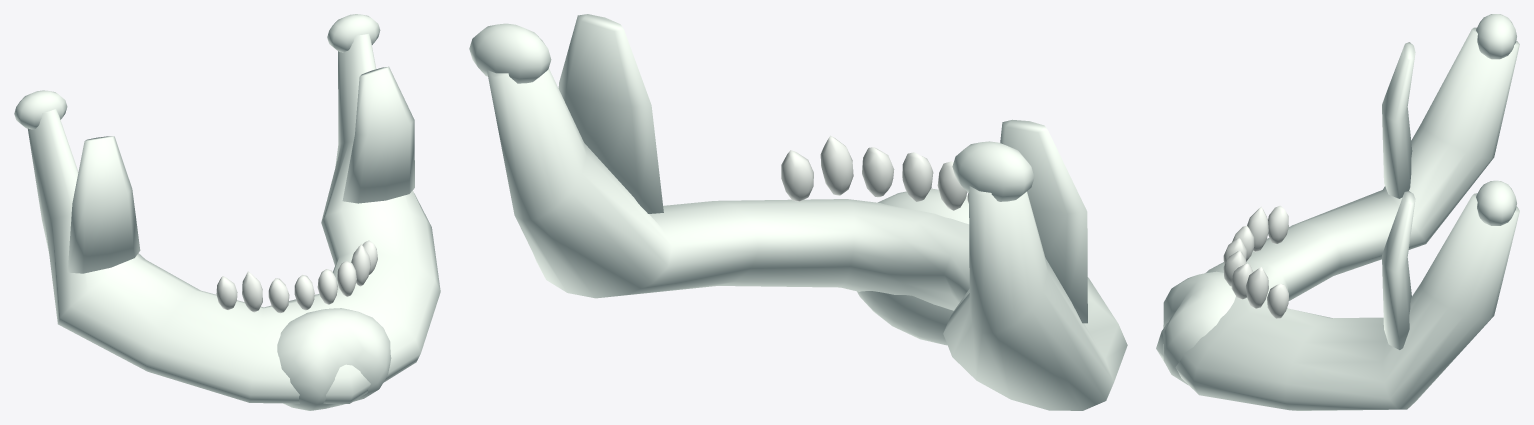
File: ghost_jaw.glb
3 views of the same model, side by side, from view 1: azimuth 30°, elevation 25°; view 2: azimuth 150°, elevation 25°; view 3: azimuth 270°, elevation 25° (orthographic). The views are drawn at different scales.
Visible parts, largest first — view 1: MandibleBody, ChinBoss, MandibleCoronoid_L, MandibleCoronoid_R, MandibleCondyle_L, MandibleCondyle_R, MandibleTooth_1, MandibleTooth_2, MandibleTooth_3, MandibleTooth_4, MandibleTooth_0, MandibleTooth_5 (+1 smaller); view 2: MandibleBody, MandibleCoronoid_R, MandibleCoronoid_L, ChinBoss, MandibleCondyle_L, MandibleCondyle_R, MandibleTooth_6, MandibleTooth_7, MandibleTooth_5, MandibleTooth_4, MandibleTooth_3; view 3: MandibleBody, ChinBoss, MandibleCoronoid_L, MandibleCoronoid_R, MandibleCondyle_R, MandibleCondyle_L, MandibleTooth_6, MandibleTooth_0, MandibleTooth_1, MandibleTooth_7, MandibleTooth_5, MandibleTooth_4 (+1 smaller).
Boxes of the visible parts, x1=… form: MandibleBody: x1=28, y1=33, x2=440, y2=403; ChinBoss: x1=277, y1=308, x2=391, y2=410; MandibleCoronoid_L: x1=67, y1=136, x2=140, y2=273; MandibleCoronoid_R: x1=342, y1=66, x2=414, y2=203; MandibleCondyle_L: x1=14, y1=90, x2=67, y2=129; MandibleCondyle_R: x1=327, y1=14, x2=380, y2=52; MandibleTooth_1: x1=242, y1=271, x2=262, y2=312; MandibleTooth_2: x1=268, y1=278, x2=289, y2=313; MandibleTooth_3: x1=294, y1=275, x2=314, y2=310; MandibleTooth_4: x1=317, y1=269, x2=337, y2=304; MandibleTooth_0: x1=216, y1=276, x2=237, y2=310; MandibleTooth_5: x1=337, y1=261, x2=356, y2=296; MandibleBody: x1=487, y1=68, x2=1127, y2=410; MandibleCoronoid_R: x1=558, y1=14, x2=663, y2=213; MandibleCoronoid_L: x1=1000, y1=119, x2=1087, y2=323; ChinBoss: x1=857, y1=188, x2=969, y2=345; MandibleCondyle_L: x1=952, y1=141, x2=1034, y2=201; MandibleCondyle_R: x1=469, y1=23, x2=551, y2=83; MandibleTooth_6: x1=820, y1=135, x2=853, y2=195; MandibleTooth_7: x1=781, y1=150, x2=813, y2=201; MandibleTooth_5: x1=862, y1=147, x2=894, y2=197; MandibleTooth_4: x1=902, y1=152, x2=933, y2=201; MandibleTooth_3: x1=937, y1=161, x2=967, y2=210; MandibleBody: x1=1156, y1=27, x2=1519, y2=410; ChinBoss: x1=1163, y1=271, x2=1235, y2=385; MandibleCoronoid_L: x1=1382, y1=42, x2=1415, y2=198; MandibleCoronoid_R: x1=1382, y1=191, x2=1415, y2=349; MandibleCondyle_R: x1=1476, y1=180, x2=1516, y2=225; MandibleCondyle_L: x1=1476, y1=14, x2=1516, y2=59; MandibleTooth_6: x1=1246, y1=267, x2=1268, y2=308; MandibleTooth_0: x1=1268, y1=205, x2=1288, y2=244; MandibleTooth_1: x1=1247, y1=206, x2=1268, y2=252; MandibleTooth_7: x1=1267, y1=283, x2=1288, y2=318; MandibleTooth_5: x1=1231, y1=263, x2=1253, y2=299; MandibleTooth_4: x1=1223, y1=251, x2=1246, y2=286.
Bounding box in the file's own units: 0.0974 × 0.0644 × 0.0756.
